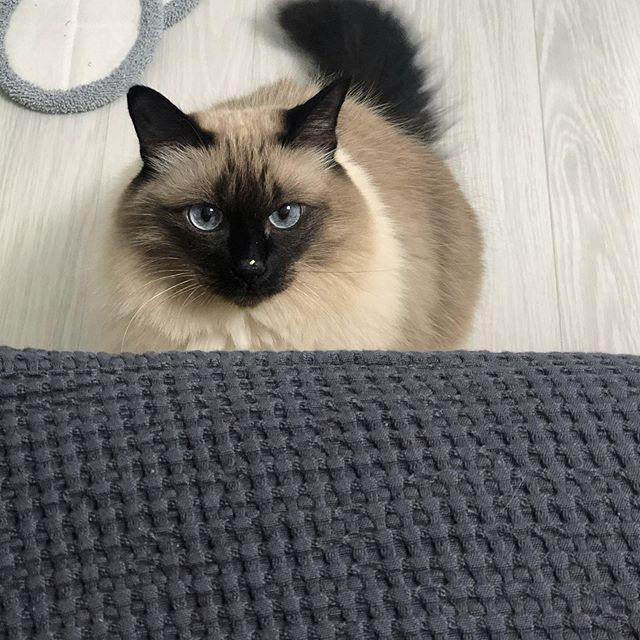cat: (123, 73, 357, 320)
